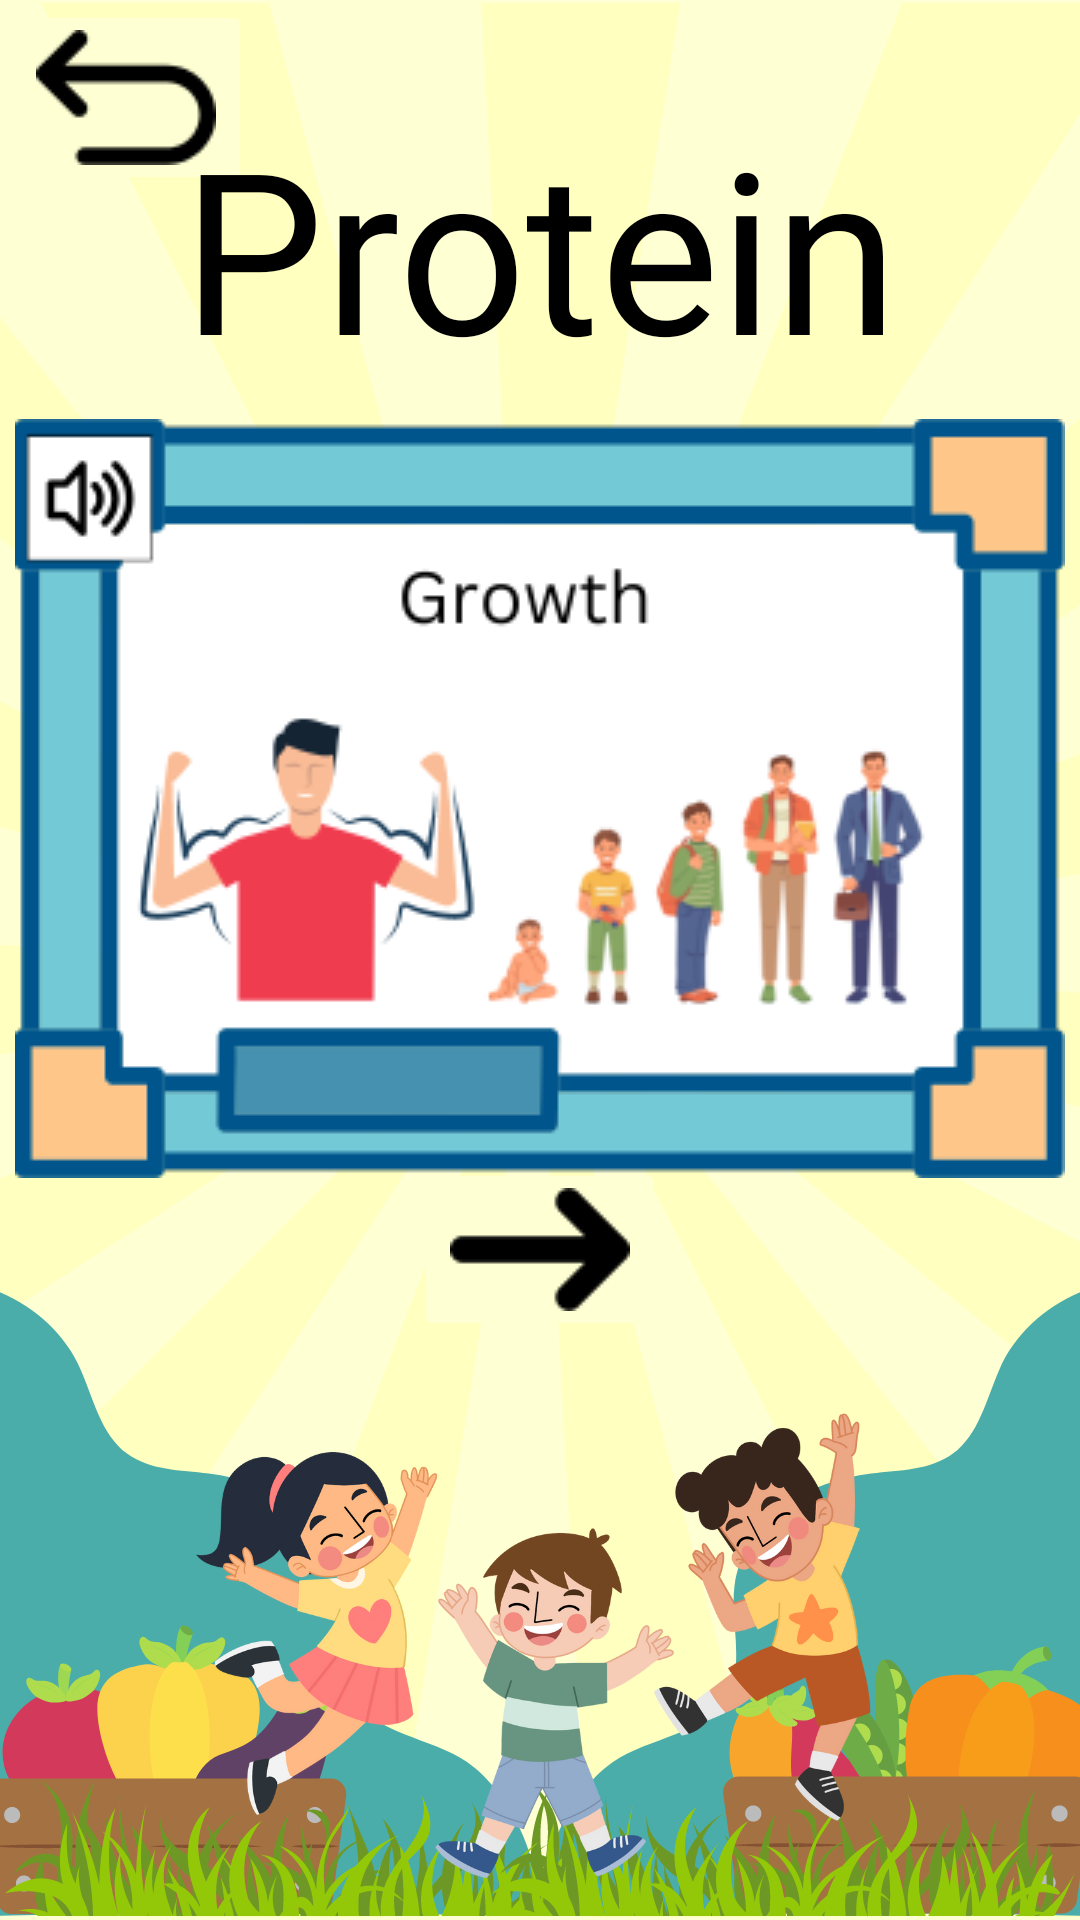

Icons on this 1080 × 1920 Android screen, each with its box as region(x1, y1, x2, y2):
Back: region(36, 30, 216, 165)
Next button: region(450, 1188, 630, 1311)
